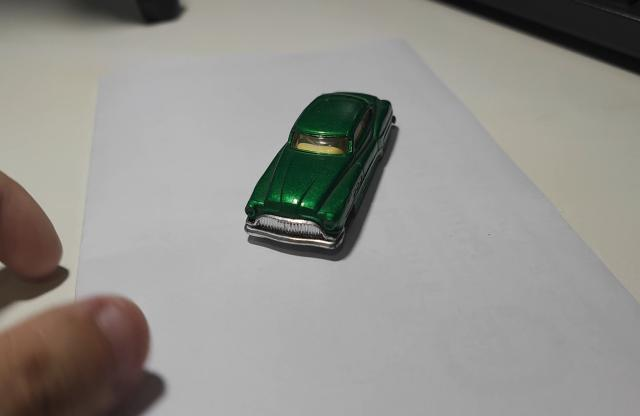06_MASERATI: (244, 92, 397, 250)
